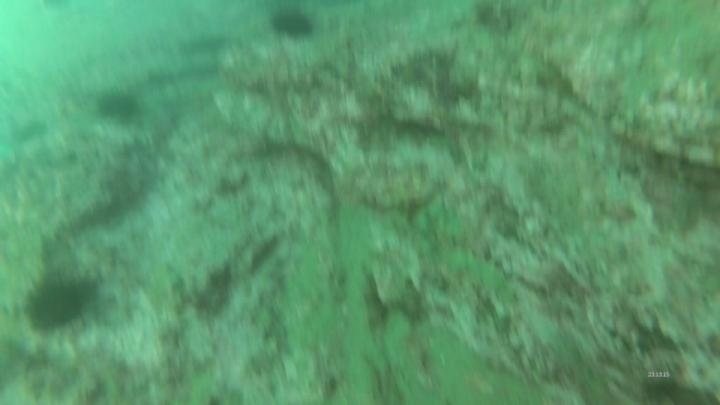echinus: (20, 268, 105, 339), (266, 6, 319, 44), (94, 87, 144, 126)
holothurian: (440, 245, 521, 317)
